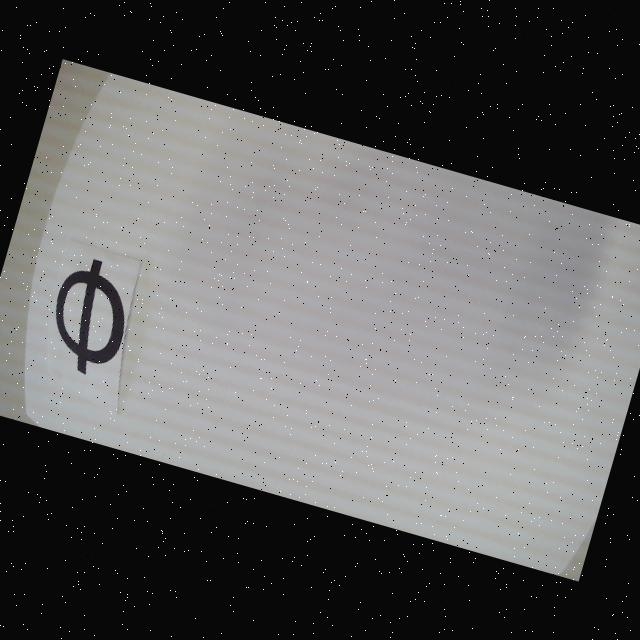PHI: (38, 250, 142, 382)
